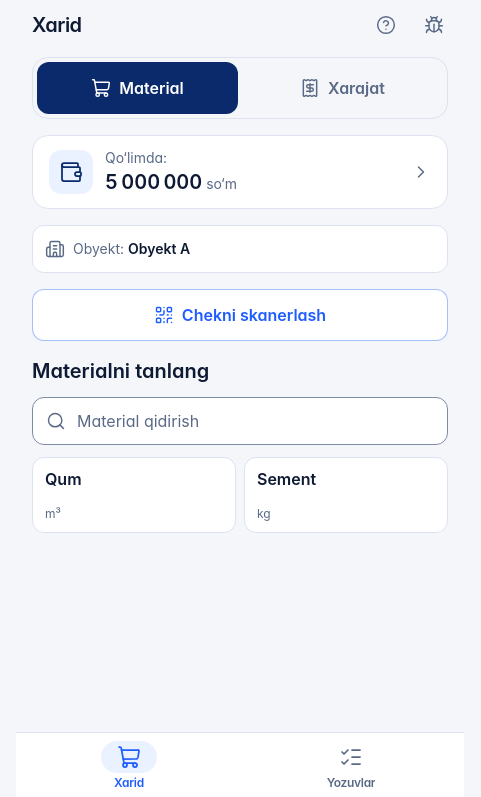
Test: Batch 12 (G) — chek QR › sotuvchi STIR bo‘yicha topilmasa — nom bilan yangi, STIR bilan yaratiladi
Step 1. Click the button "Chekni skanerlash" → x=240, y=315, box [32, 289, 448, 341]
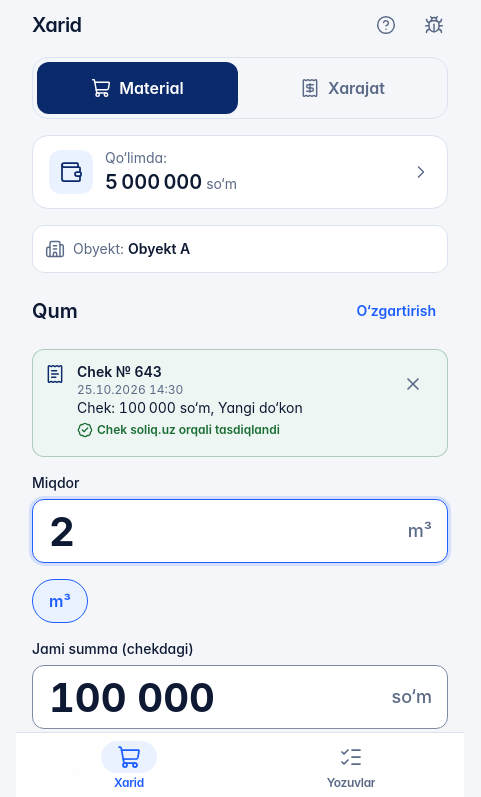
Expected: the element with test id "receipt-card" is shown, [32, 349, 448, 457]
